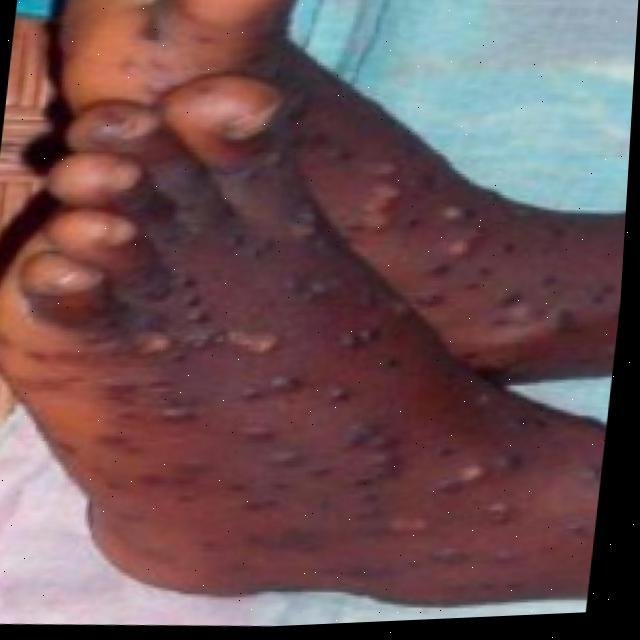Eczema: (92, 51, 635, 611)
